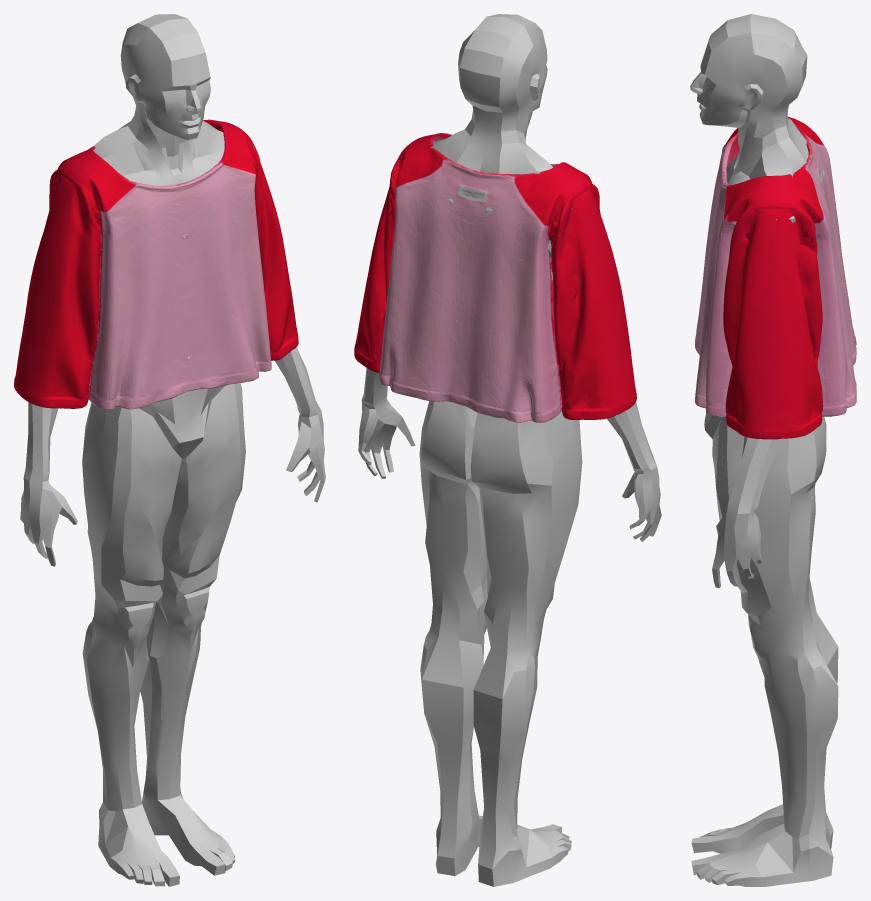
The model's file is combined.obj.
The picture shows the model from 3 angles, left to right: view 1: azimuth 30°, elevation 25°; view 2: azimuth 150°, elevation 25°; view 3: azimuth 270°, elevation 25°; orthographic projection.
Visible parts, largest first — view 1: bodyMesh, material; view 2: bodyMesh, material; view 3: bodyMesh, material.
Boxes of the visible parts, left/top/right/bottom form: bodyMesh: left=20, top=14, right=325, bottom=886; material: left=14, top=119, right=298, bottom=410; bodyMesh: left=358, top=14, right=661, bottom=886; material: left=354, top=133, right=636, bottom=422; bodyMesh: left=690, top=14, right=838, bottom=886; material: left=695, top=116, right=856, bottom=439.
Bounding box in the file's own units: 1.33 × 3.61 × 0.647.
2 materials, 1 textured.
